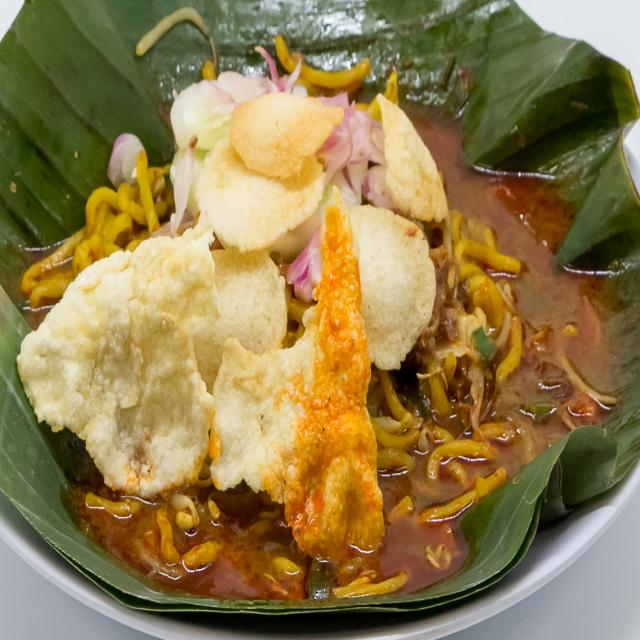Mie-Aceh: (12, 23, 562, 592)
